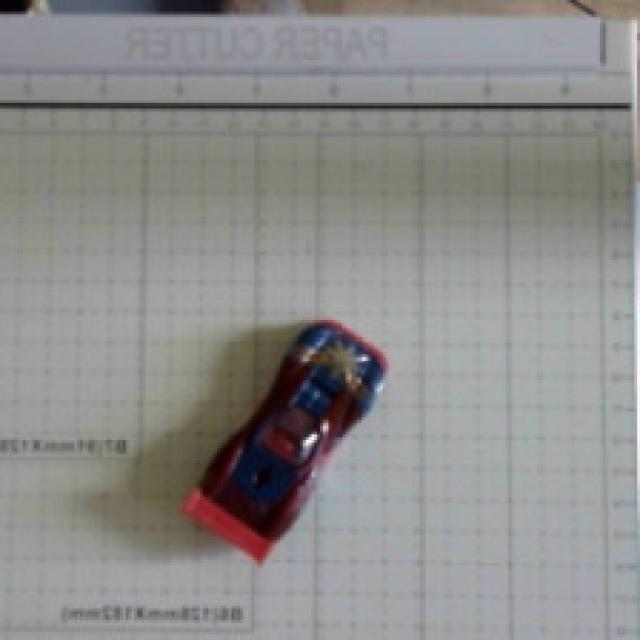Red Car: (154, 307, 425, 584)
